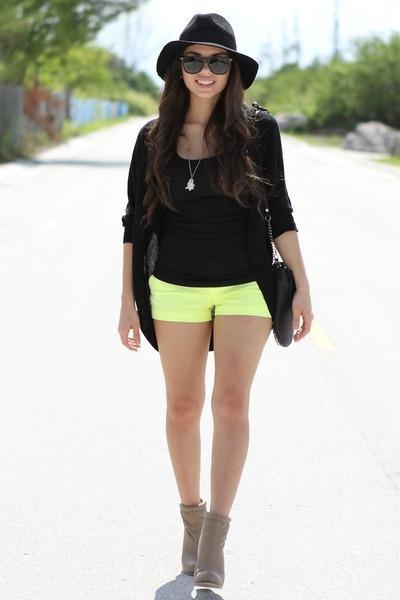bag: (251, 259, 296, 346)
hat: (157, 13, 258, 86)
jacket: (122, 118, 297, 350)
shirt: (148, 157, 272, 286)
shoe: (181, 503, 227, 599)
shorts: (149, 276, 270, 322)
sunglass: (182, 36, 236, 74)
